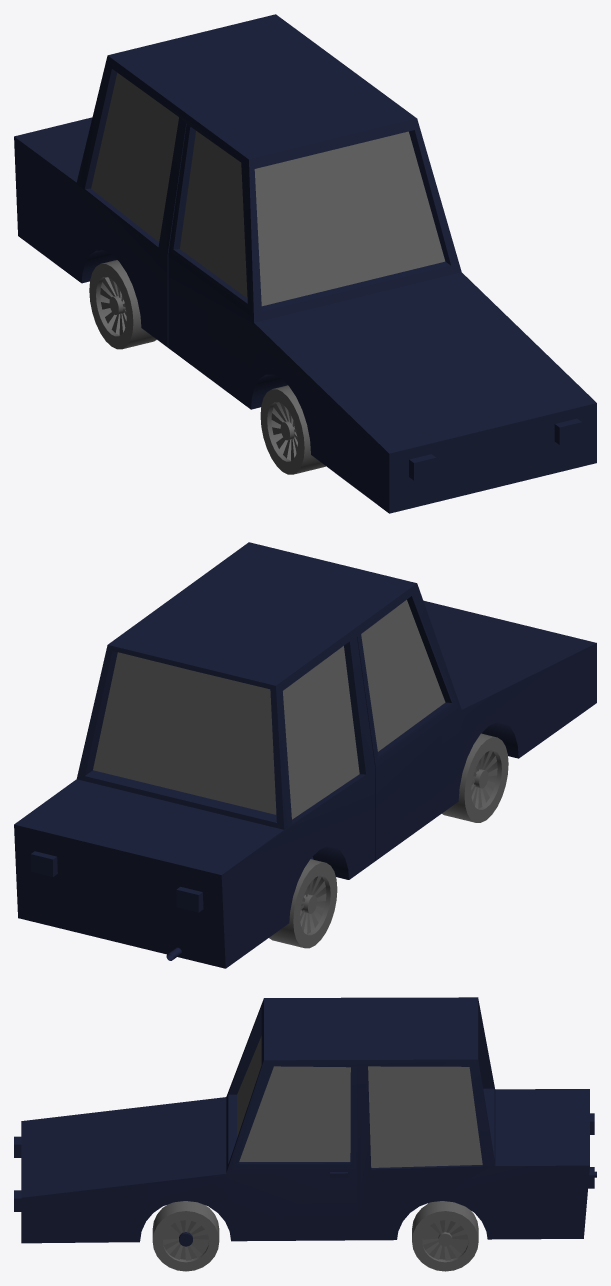
The model's file is oyuncakAraba.fbx.
3 renders of one model, top to bottom at view 1: azimuth 30°, elevation 25°; view 2: azimuth 150°, elevation 25°; view 3: azimuth 270°, elevation 25°, orthographic. The views are drawn at different scales.
Visible parts, largest first — view 1: arabaOyuncak; view 2: arabaOyuncak; view 3: arabaOyuncak.
Part boxes in pixels (x1=…): arabaOyuncak: x1=14, y1=14, x2=596, y2=513; arabaOyuncak: x1=14, y1=542, x2=596, y2=968; arabaOyuncak: x1=14, y1=997, x2=596, y2=1271.
Size of the model in its own units: 9.65 by 11.81 by 30.39.
